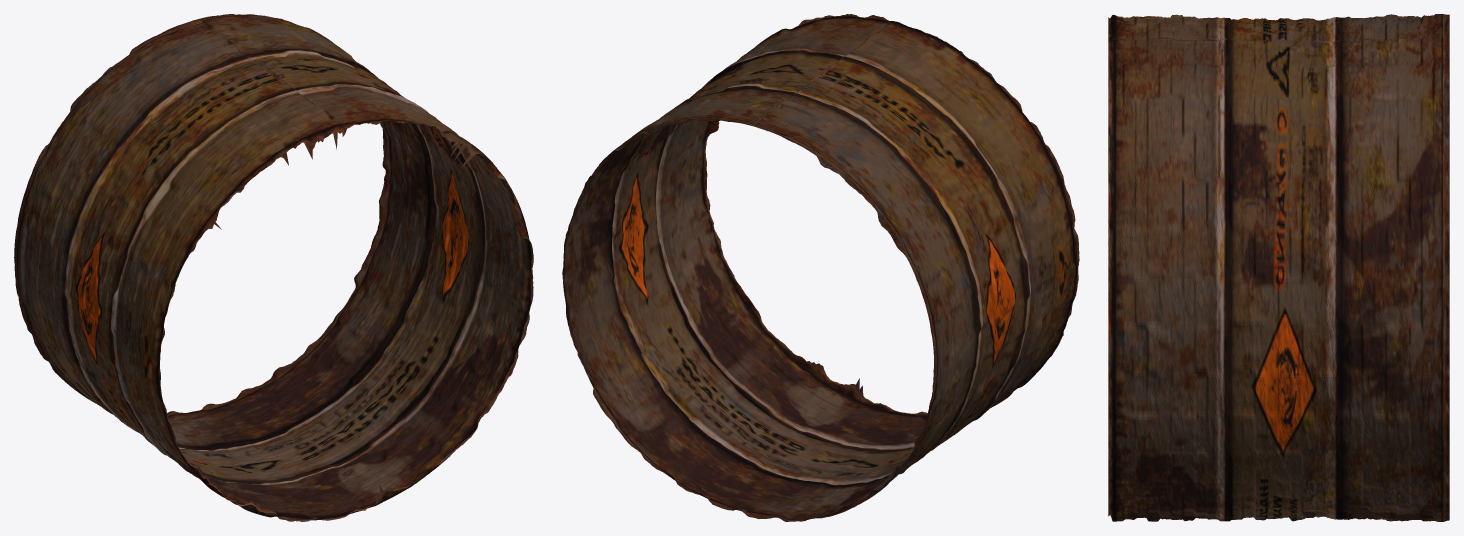
3 renders of one model, left to right at view 1: azimuth 30°, elevation 25°; view 2: azimuth 150°, elevation 25°; view 3: azimuth 270°, elevation 25°, orthographic. The views are drawn at different scales.
Parts seen in each view (by area): view 1: geometry_0; view 2: geometry_0; view 3: geometry_0.
Part boxes in pixels (box(x1,y1,x2,y2)): geometry_0: box(14, 14, 533, 521); geometry_0: box(562, 14, 1079, 521); geometry_0: box(1108, 14, 1449, 521).
Size of the model in its own units: 2 by 2 by 1.34.
1 material, 1 textured.
